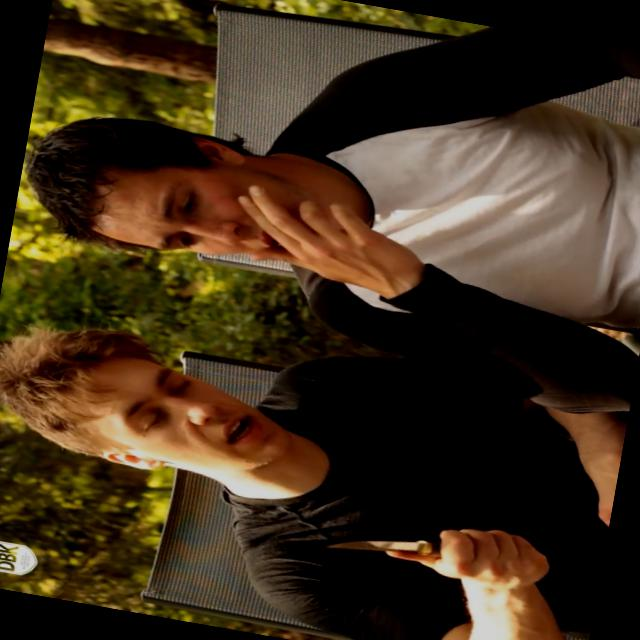knife: (310, 494, 508, 591)
